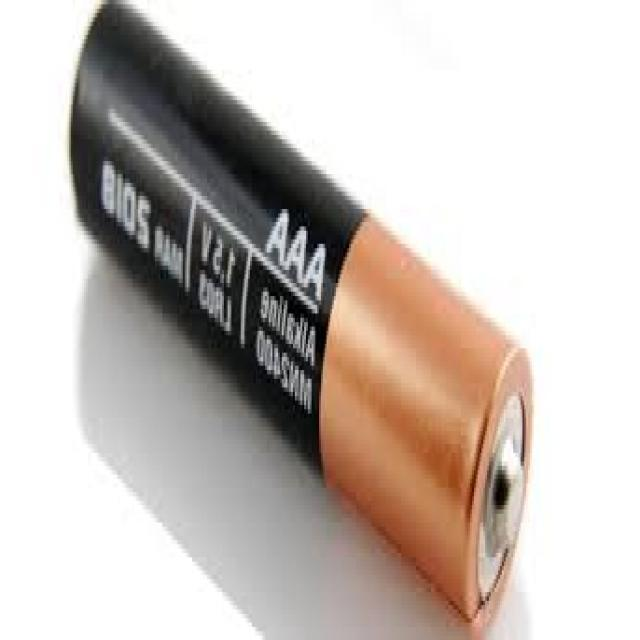battery: (70, 0, 536, 629)
